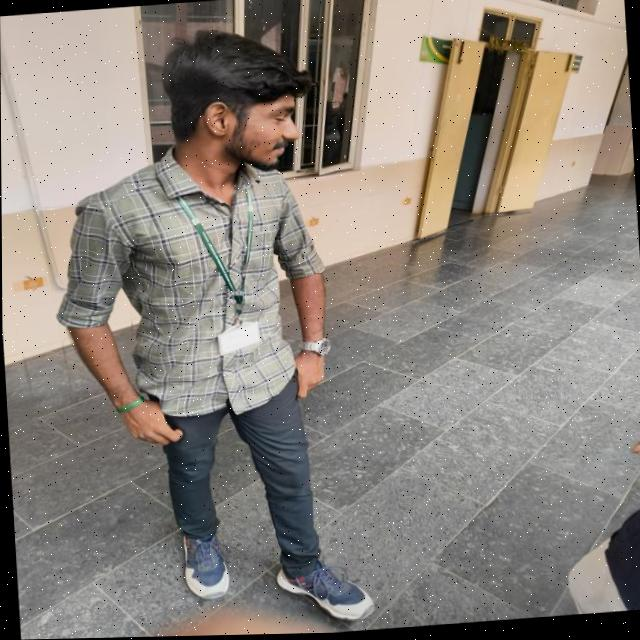id_card: (165, 147, 275, 362)
